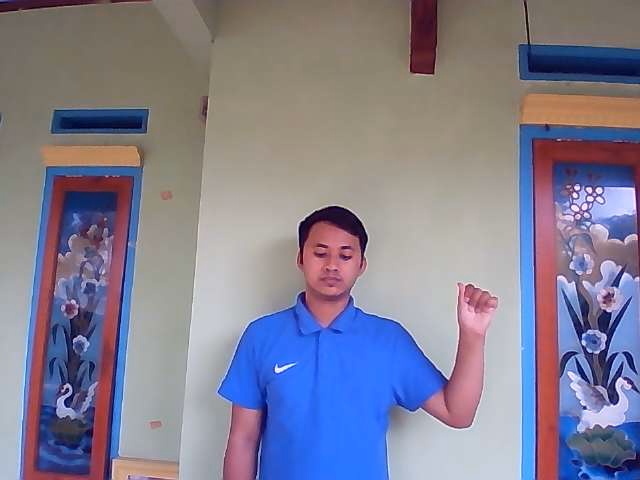A: (455, 282, 498, 336)
